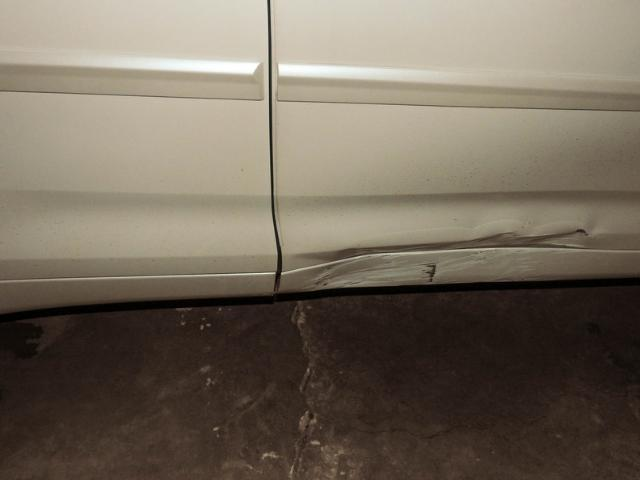Door: (274, 210, 640, 288)
